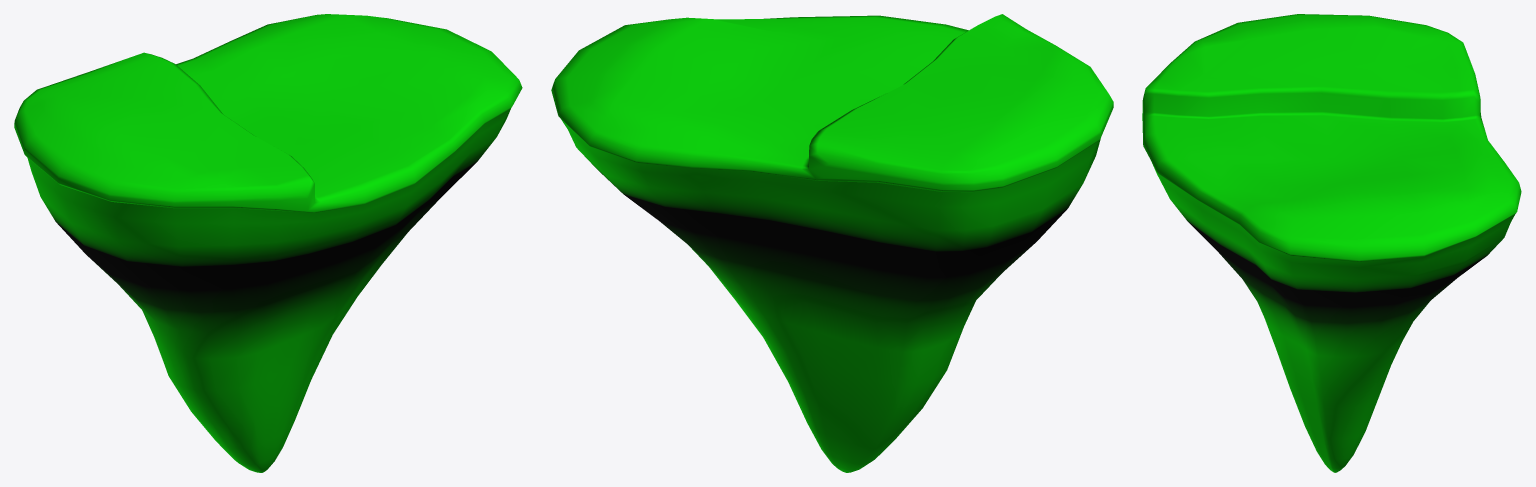
File: Main island.fbx
The picture shows the model from 3 angles, left to right: view 1: azimuth 30°, elevation 25°; view 2: azimuth 150°, elevation 25°; view 3: azimuth 270°, elevation 25°; orthographic projection. The views are drawn at different scales.
Visible parts, largest first — view 1: polySurface2; view 2: polySurface2; view 3: polySurface2.
Part boxes in pixels (x1,y1,x2,y2): polySurface2: (14, 14, 522, 472); polySurface2: (551, 14, 1113, 472); polySurface2: (1142, 14, 1521, 472).
Bounding box in the file's own units: 146 × 115 × 107.
